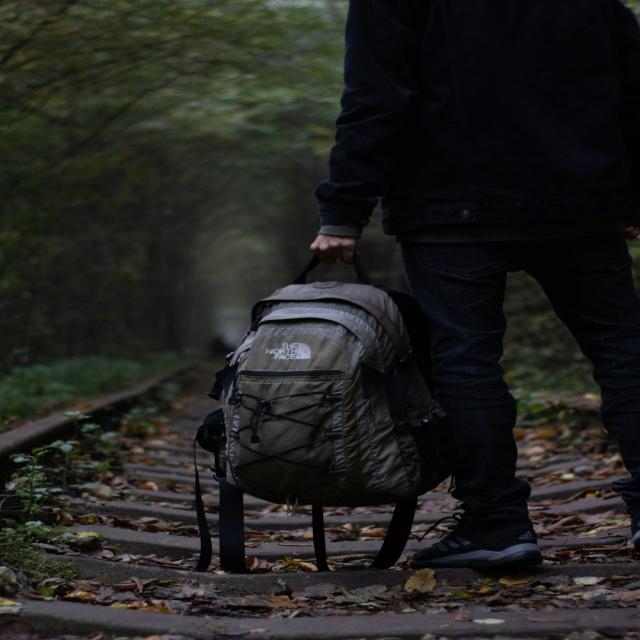backpack: (201, 253, 454, 509)
